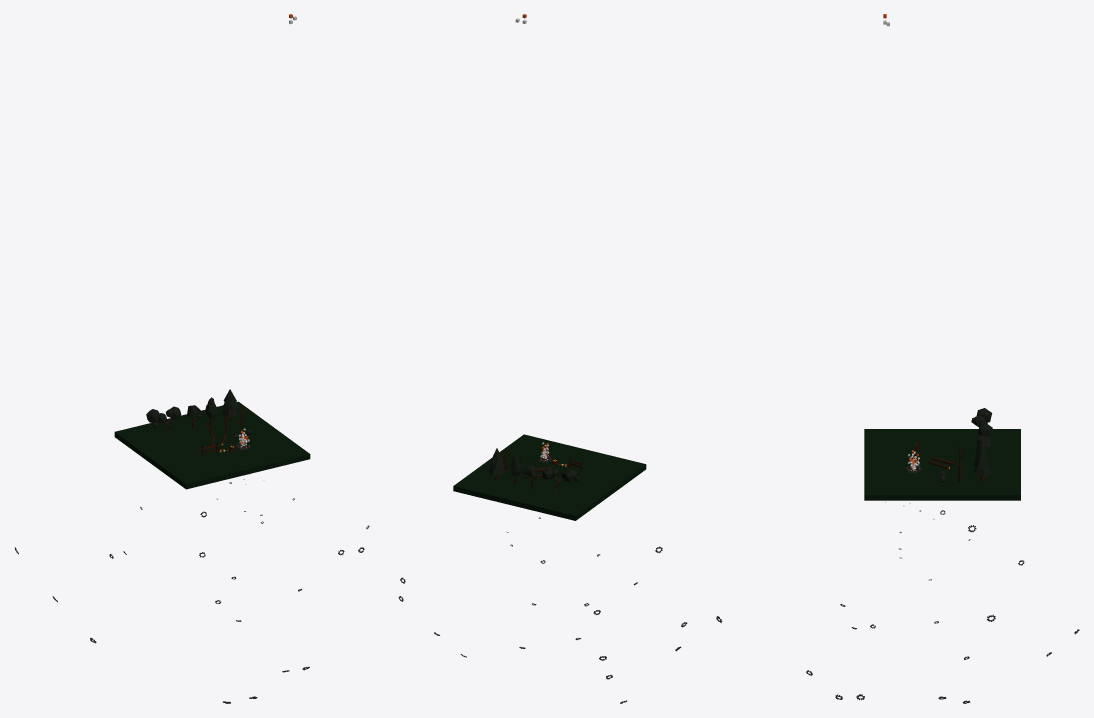
Rendered from work+3.obj.
3 renders of one model, left to right at view 1: azimuth 30°, elevation 25°; view 2: azimuth 150°, elevation 25°; view 3: azimuth 270°, elevation 25°, orthographic. The views are drawn at different scales.
Parts seen in each view (by area): view 1: Grass, Stone; view 2: Grass, Stone; view 3: Grass, Stone.
Part boxes in pixels (bbox=[...]): Grass: bbox=[114, 401, 310, 489]; Stone: bbox=[15, 14, 369, 703]; Grass: bbox=[453, 434, 646, 520]; Stone: bbox=[398, 14, 687, 703]; Grass: bbox=[864, 429, 1020, 500]; Stone: bbox=[716, 14, 1079, 703].
Bounding box in the file's own units: 51.95 × 103 × 46.88.
